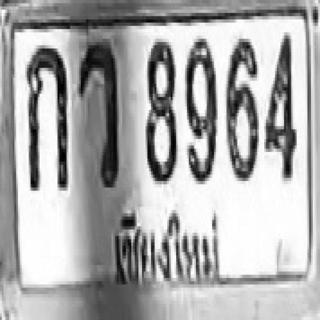A01: (25, 44, 66, 189)
A37: (77, 39, 117, 184)
N04: (264, 31, 295, 179)
N06: (225, 36, 259, 178)
N08: (144, 39, 176, 181)
N09: (184, 35, 217, 181)
P11: (101, 198, 230, 304)
